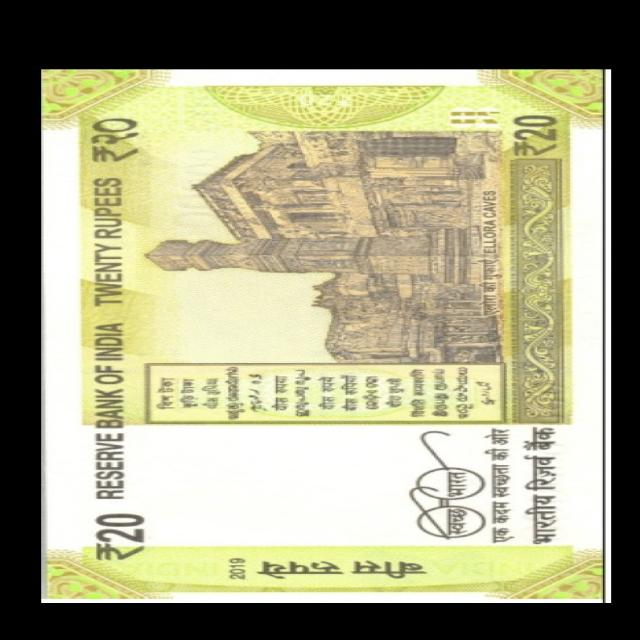20IndianRupees: (39, 69, 616, 600)
